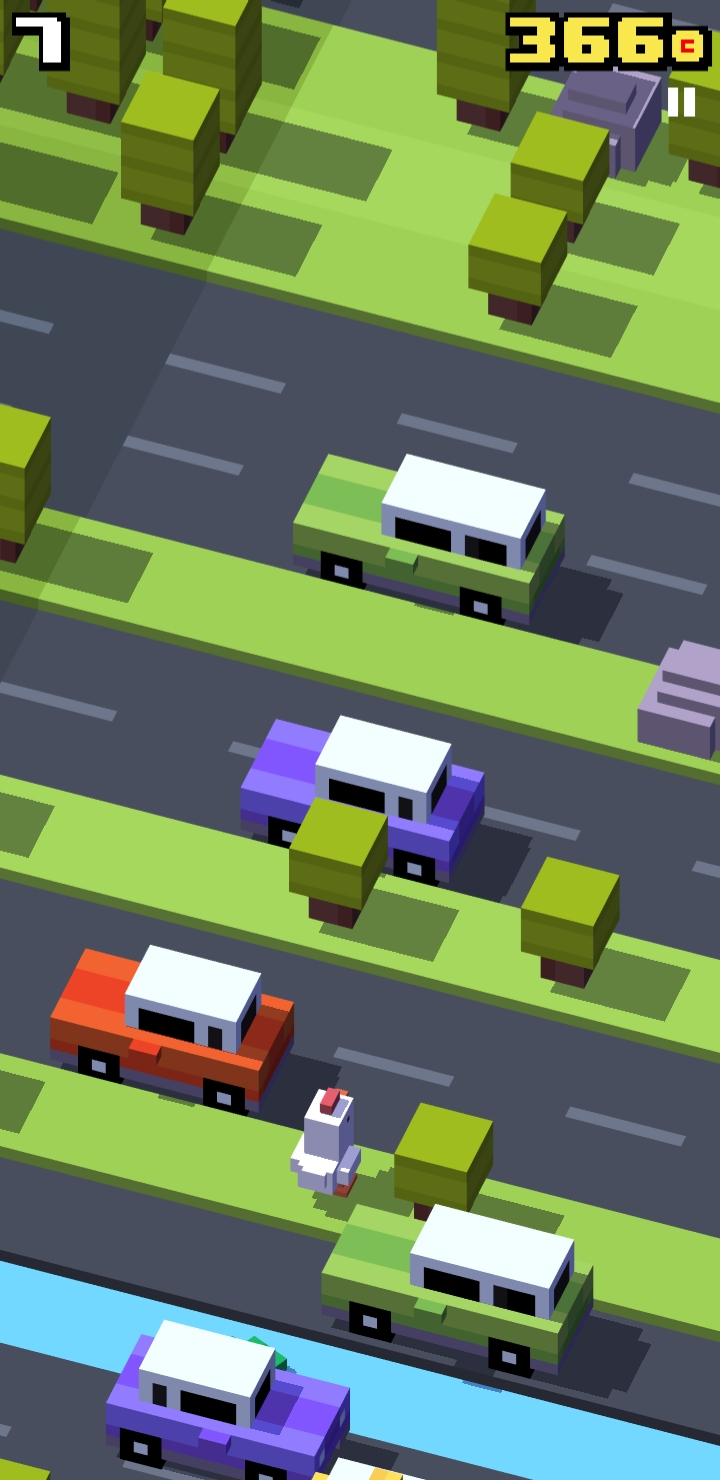car: (325, 1176, 592, 1389), (294, 434, 565, 639), (245, 707, 489, 912), (49, 938, 296, 1130), (110, 1318, 339, 1480)
duck: (281, 1081, 369, 1207)
rock: (556, 52, 663, 185), (638, 636, 720, 752)
tree: (110, 74, 227, 238), (161, 1, 272, 150), (518, 856, 625, 1005), (434, 3, 541, 138), (469, 194, 567, 338), (290, 794, 385, 934), (396, 1098, 496, 1218), (512, 118, 610, 227), (1, 383, 54, 570), (50, 7, 139, 118), (667, 47, 720, 196)
